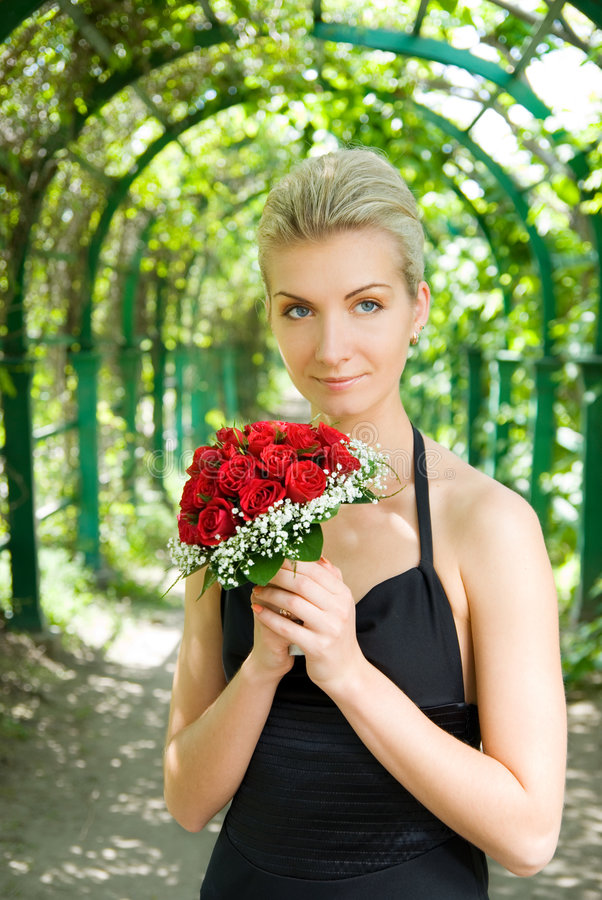RedRose: (207, 443, 267, 497), (281, 455, 338, 505), (185, 499, 237, 553)
